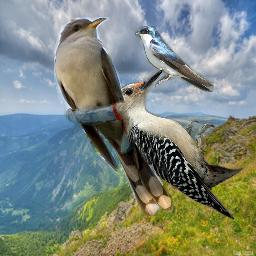Cuckoo: (54, 17, 173, 216)
Swallow: (135, 26, 214, 92)
Woodpecker: (111, 67, 244, 220)
